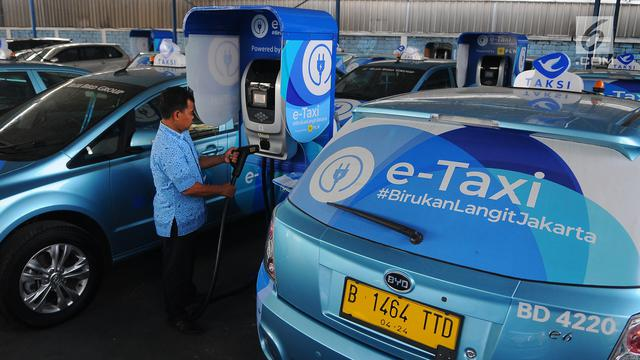plat nomor: (339, 277, 456, 355)
